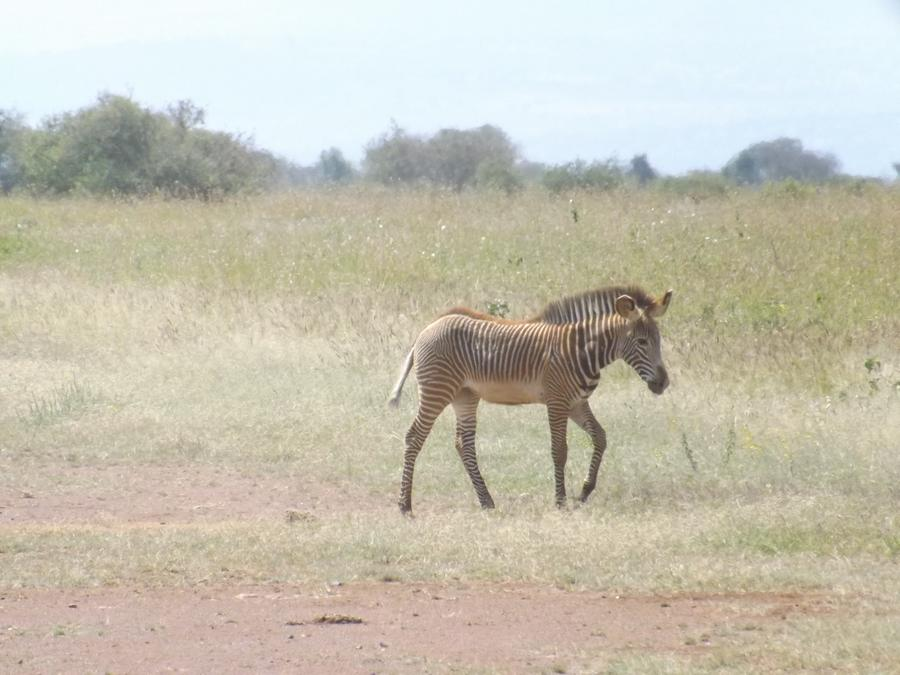zebra_grevys: (402, 299, 587, 412)
